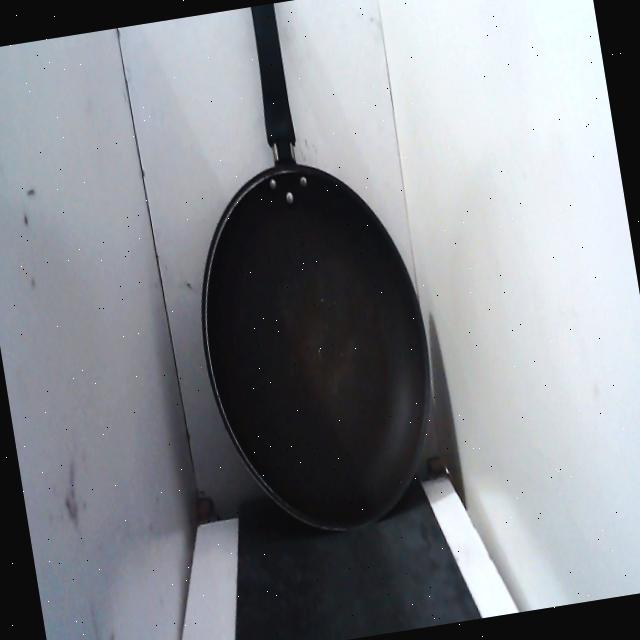metal: (147, 0, 460, 556)
